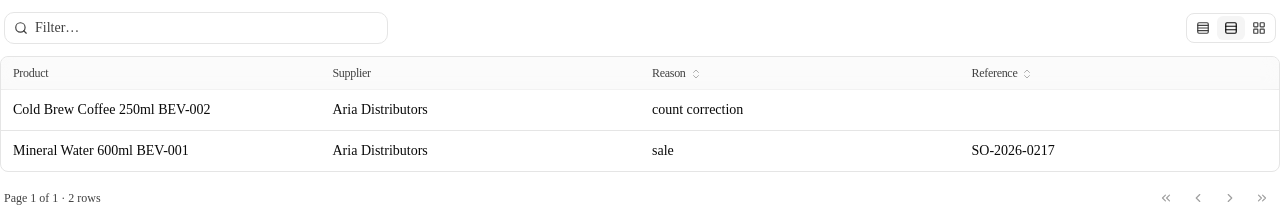
Scenario: DataTable global filter wiring › finds a reference although the FIRST row has none (cause B)
The width and height of the screenshot is (1280, 222).
Type "SO-2026-0217" into the field named "filter table" at x=196, y=28, box [4,12,388,44]
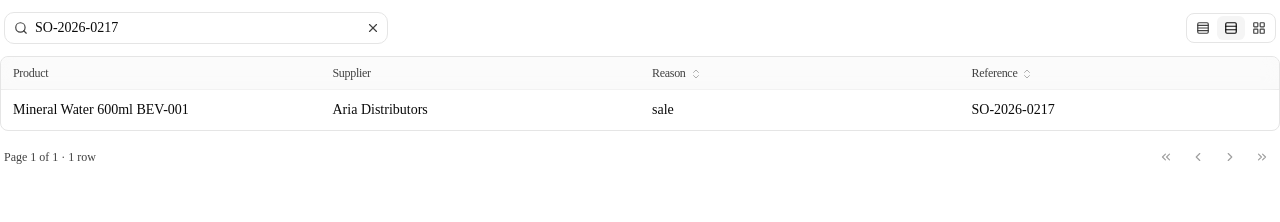
Check: the text "Mineral Water 600ml BEV-001" is shown, box [13,102,189,117]
Check: the text "Cold Brew Coffee" is gone
